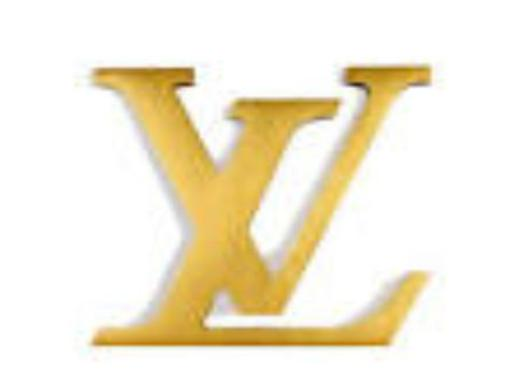LOUIS-VUITTON: (75, 49, 434, 358)
